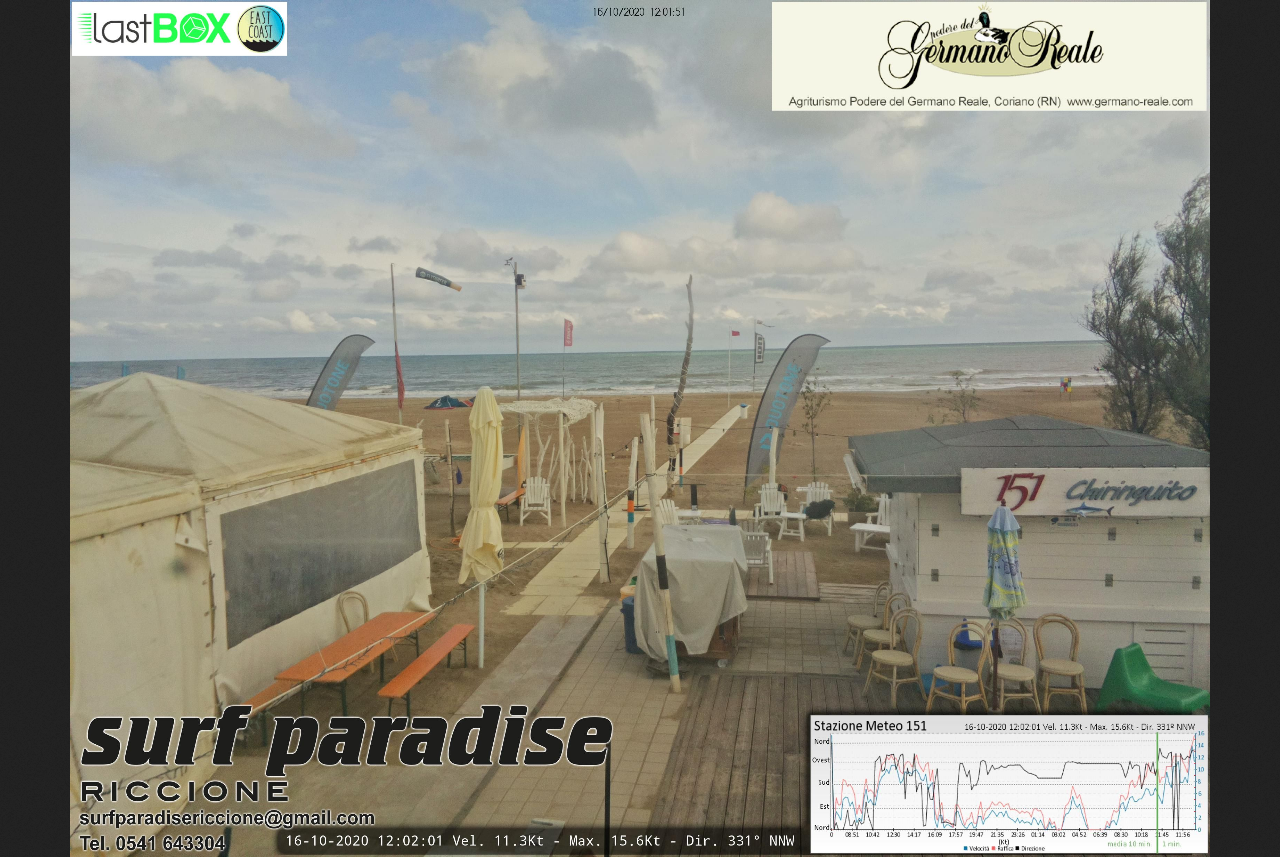yes: (511, 272, 527, 290), (729, 325, 744, 338)
